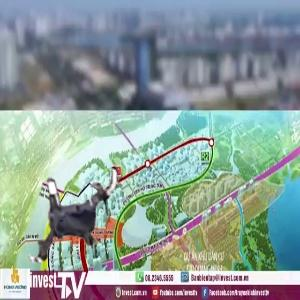drone: (13, 156, 136, 279)
